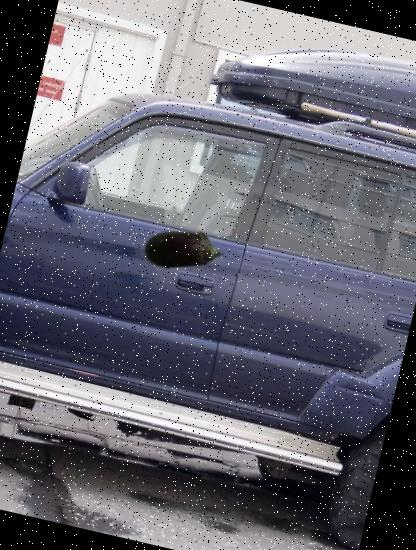Eggplant: (134, 198, 234, 300)
